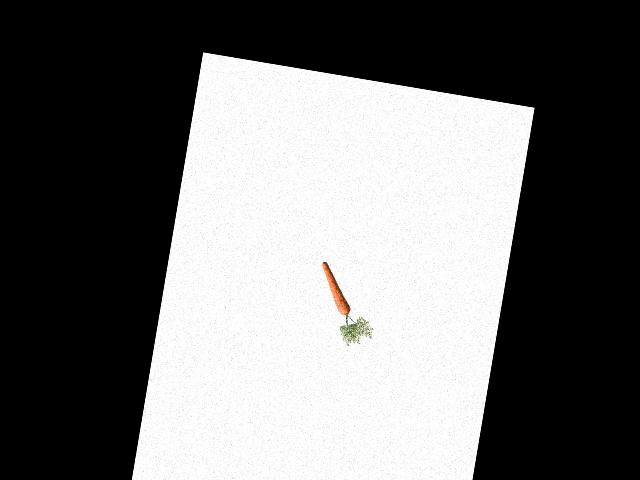carrot: (312, 259, 359, 321)
